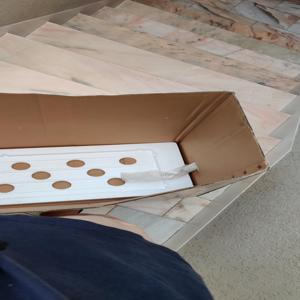cardboard: (1, 79, 281, 231)
plastic: (1, 149, 199, 197)
